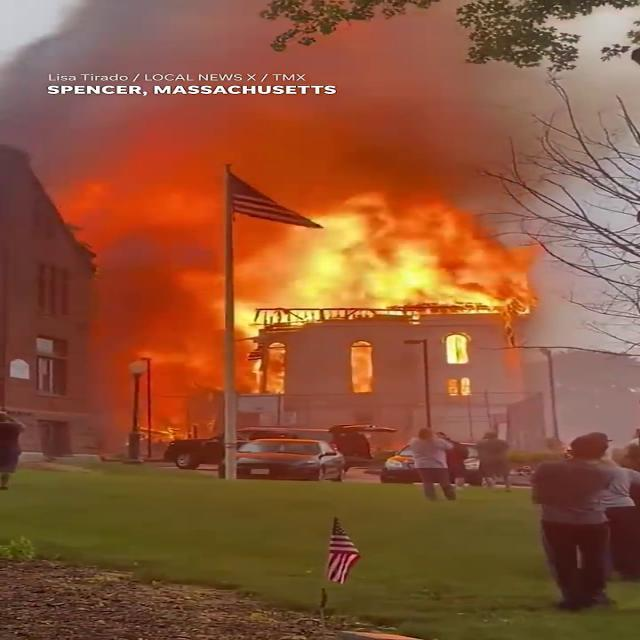Fire: (153, 179, 552, 351)
Smoke: (4, 0, 638, 174)
